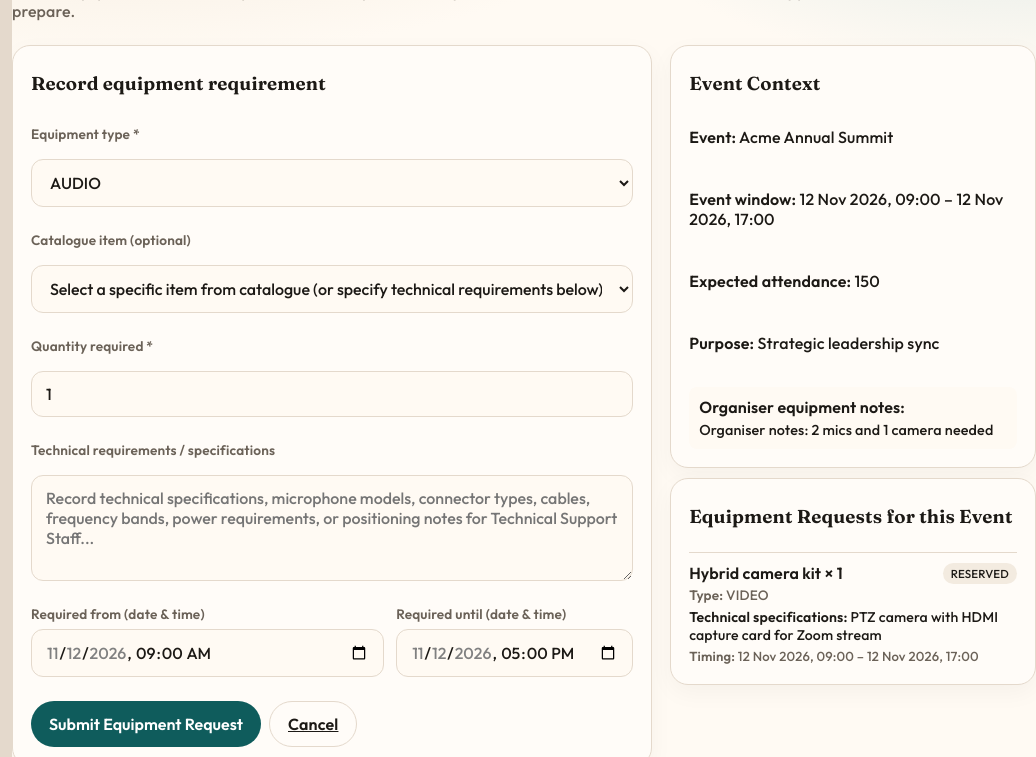
Test case: SCRUM-47 EquipmentRequest page › AC4: rejects Required from before the event start
The image size is (1036, 757).
(page scrolled)
Replace the text in the field labelled "Required from (date & time)" with "2026-11-11T09:00" at (208, 653), box [31, 629, 384, 677]
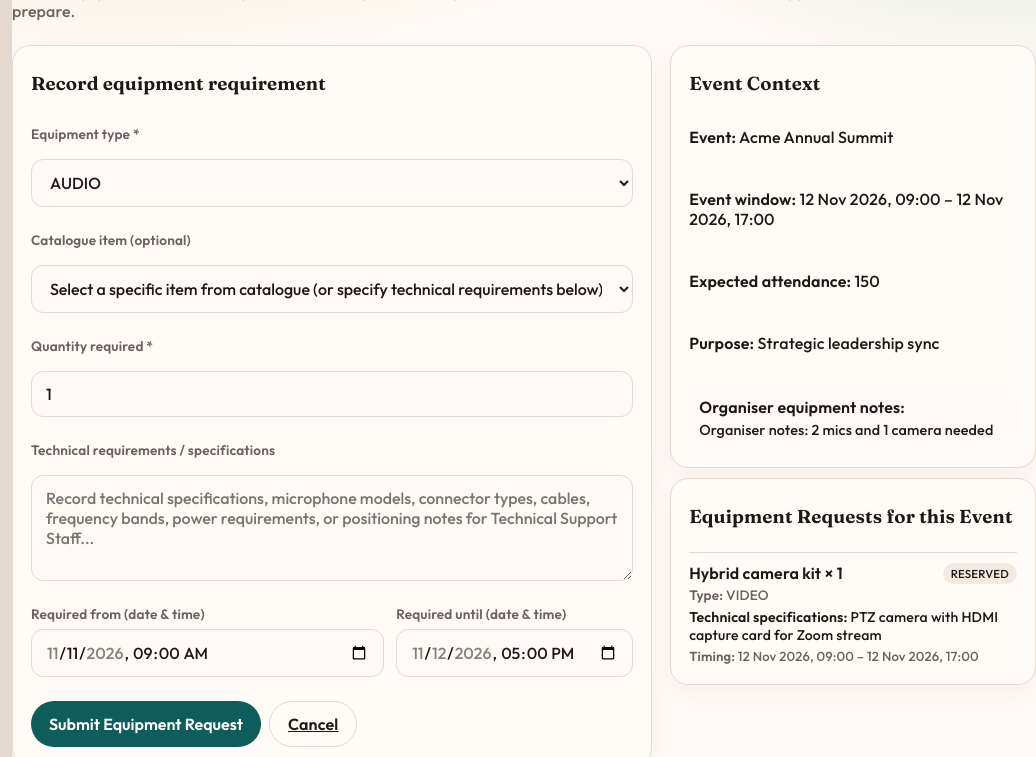
Click the button "Submit Equipment Request".
click(146, 724)  # box [31, 701, 261, 747]
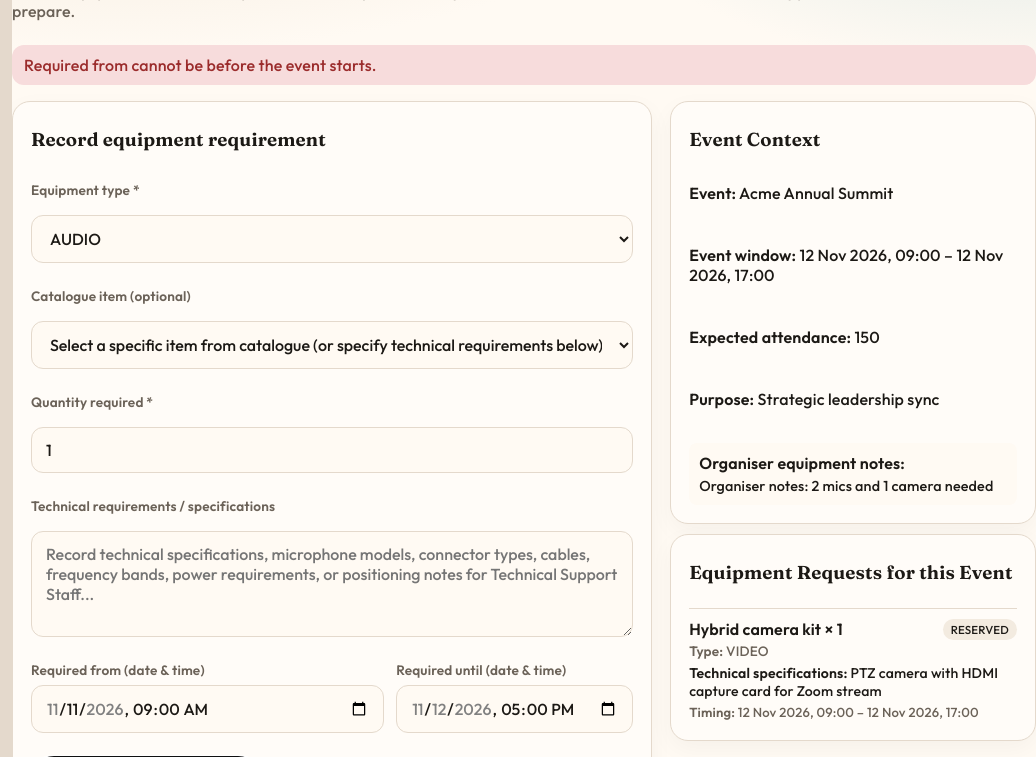
Now the text "Required from cannot be before the event starts." is shown, box [12, 45, 1035, 85]
